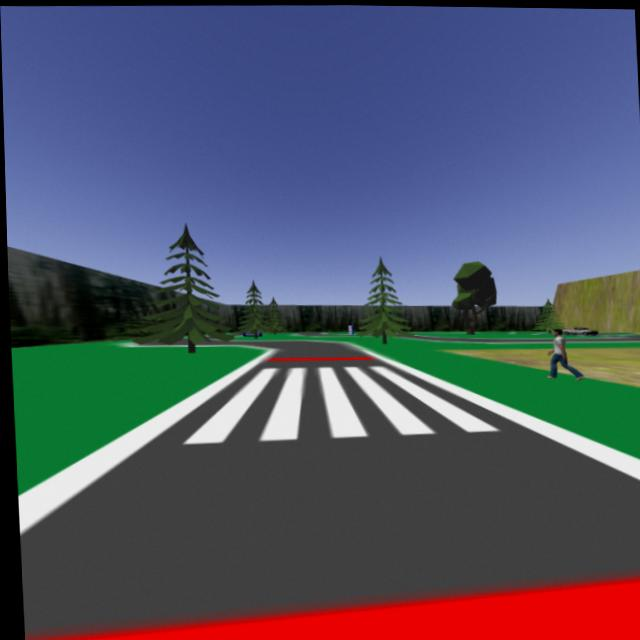pedestrian: (545, 326, 584, 383)
